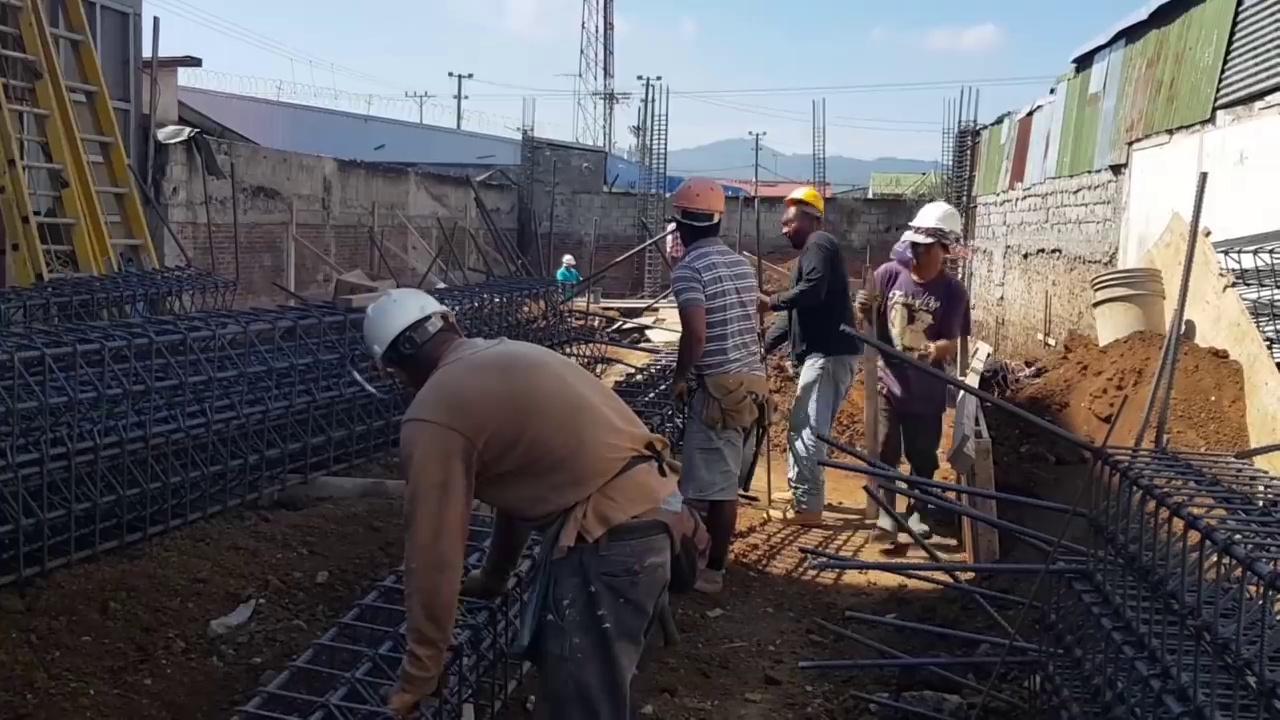helmet: (358, 289, 453, 381), (904, 200, 965, 248), (666, 175, 726, 217), (778, 182, 825, 217), (561, 255, 576, 266)
helmet-on: (354, 287, 474, 390), (664, 176, 728, 253), (904, 201, 963, 279), (776, 182, 824, 244), (561, 256, 576, 273)
person: (355, 285, 698, 719), (663, 168, 773, 610), (882, 194, 980, 561), (773, 178, 874, 525), (553, 256, 578, 300)
